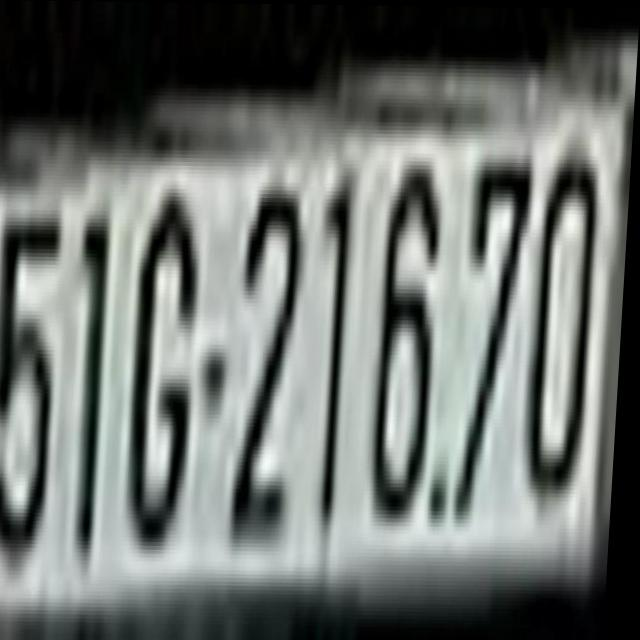0: (527, 138, 604, 512)
1: (310, 167, 359, 555), (70, 207, 119, 583)
2: (229, 185, 310, 562)
5: (0, 198, 70, 567)
6: (373, 148, 450, 549)
7: (452, 141, 537, 530)
G: (128, 188, 207, 569)
